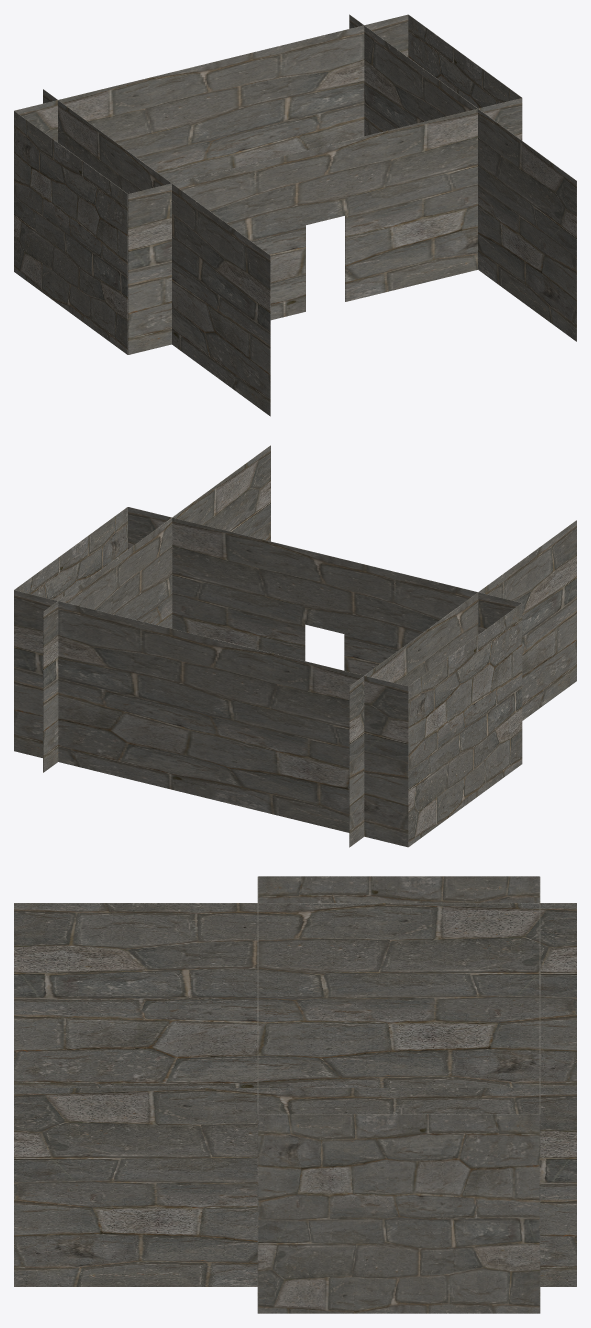
The model's file is muraStanzapuzzle.fbx.
3 renders of one model, top to bottom at view 1: azimuth 30°, elevation 25°; view 2: azimuth 150°, elevation 25°; view 3: azimuth 270°, elevation 25°, orthographic. The views are drawn at different scales.
Parts seen in each view (by area): view 1: object_184, object_184.001, object_184.002; view 2: object_184, object_184.002, object_184.001; view 3: object_184.002, object_184, object_184.001.
Boxes of the visible parts, left/top/right/bottom form: object_184: left=14, top=14, right=522, bottom=354; object_184.001: left=349, top=14, right=576, bottom=341; object_184.002: left=43, top=89, right=270, bottom=416; object_184: left=14, top=507, right=522, bottom=847; object_184.002: left=349, top=520, right=576, bottom=847; object_184.001: left=43, top=445, right=270, bottom=772; object_184.002: left=14, top=903, right=576, bottom=1087; object_184: left=257, top=876, right=540, bottom=1313; object_184.001: left=14, top=1088, right=576, bottom=1286.
Size of the model in its own units: 1002 by 390 by 1000.
